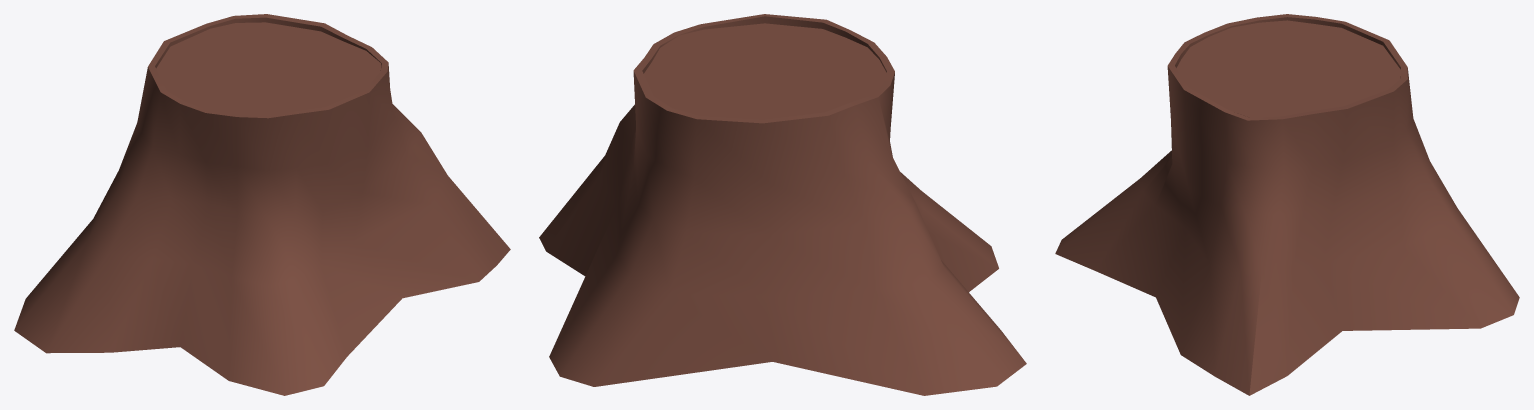
Rendered from StumpMain_low.fbx.
3 renders of one model, left to right at view 1: azimuth 30°, elevation 25°; view 2: azimuth 150°, elevation 25°; view 3: azimuth 270°, elevation 25°, orthographic. The views are drawn at different scales.
Parts seen in each view (by area): view 1: Stump; view 2: Stump; view 3: Stump.
Boxes of the visible parts, x1,y1,x2,y2 form: Stump: [14, 14, 510, 395]; Stump: [539, 14, 1026, 395]; Stump: [1055, 14, 1519, 395].
Size of the model in its own units: 4.46 by 3.95 by 2.09.
